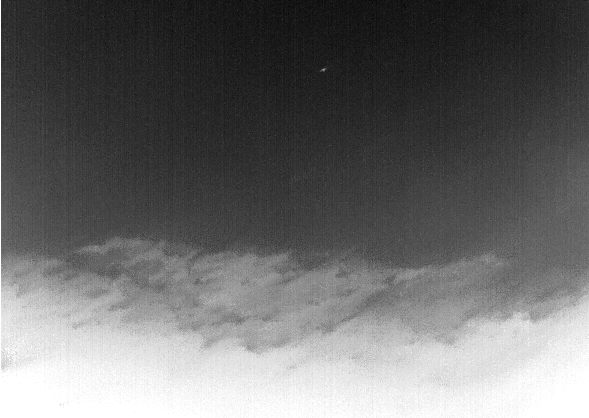dim target: (318, 66, 327, 73)
